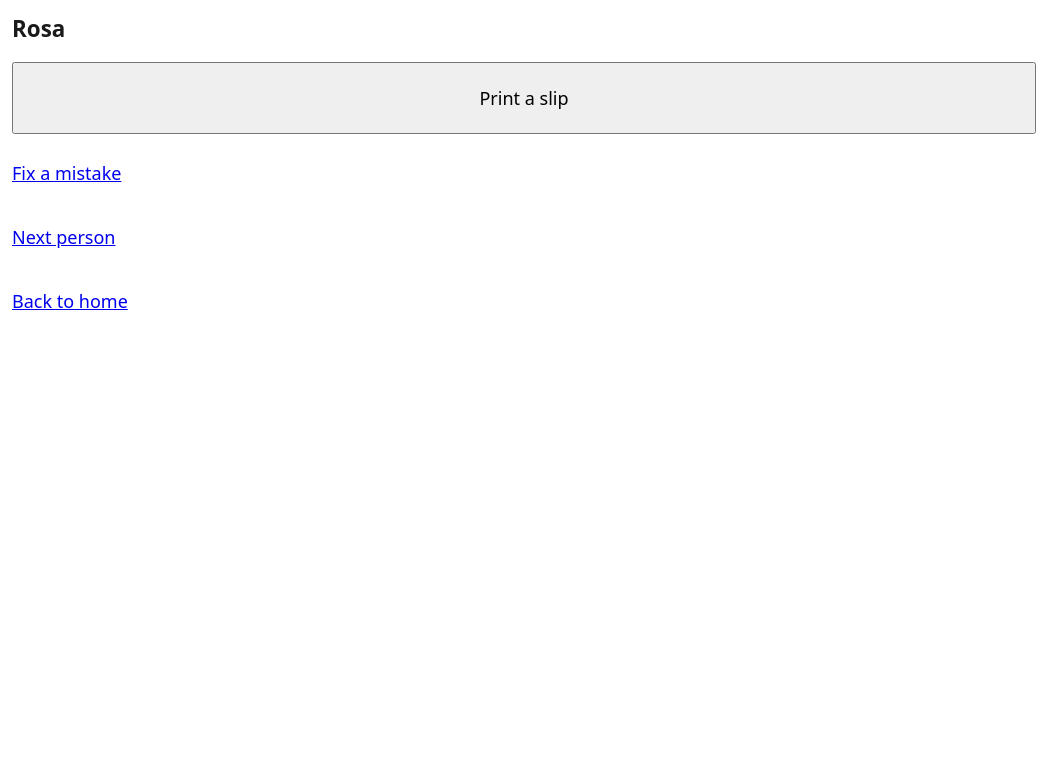
Test case: the slip shows the code and PIN once, after pressing Print a slip
Click the button "Print a slip": x=524, y=98 [12,62,1036,134]
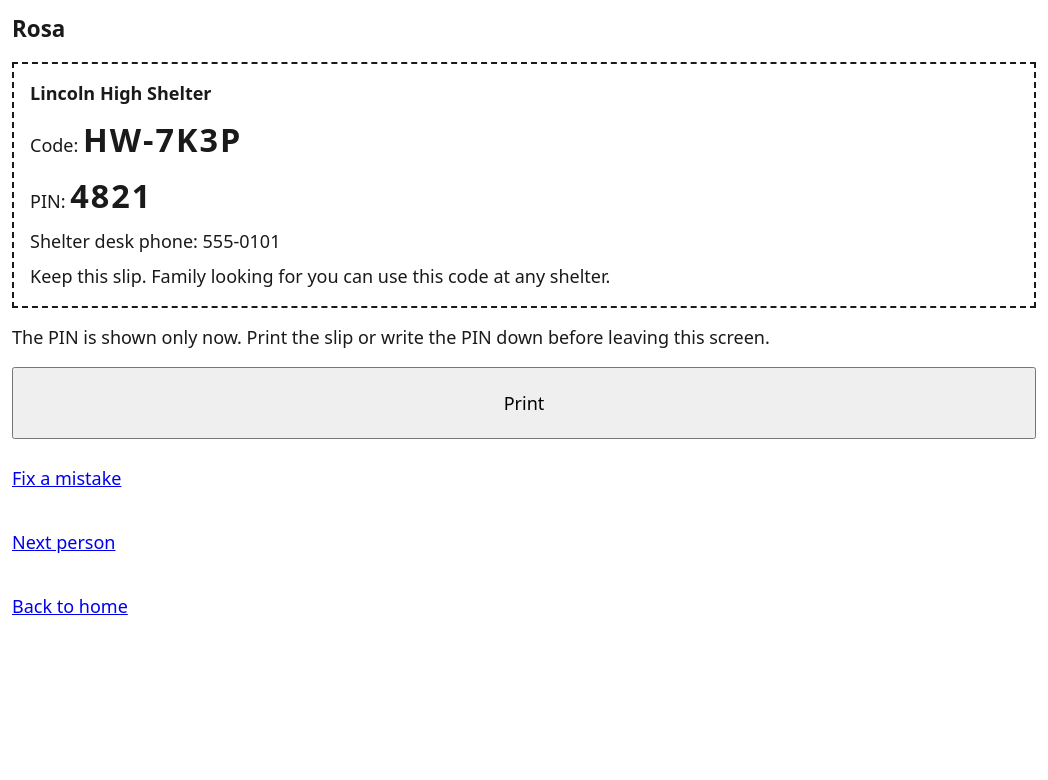
Result: the text "HW-7K3P" is shown at [83,117,242,161]
Result: the text "4821" is shown at [70,173,152,217]
Result: the text "The PIN is shown only now" is shown at [12,325,770,349]
